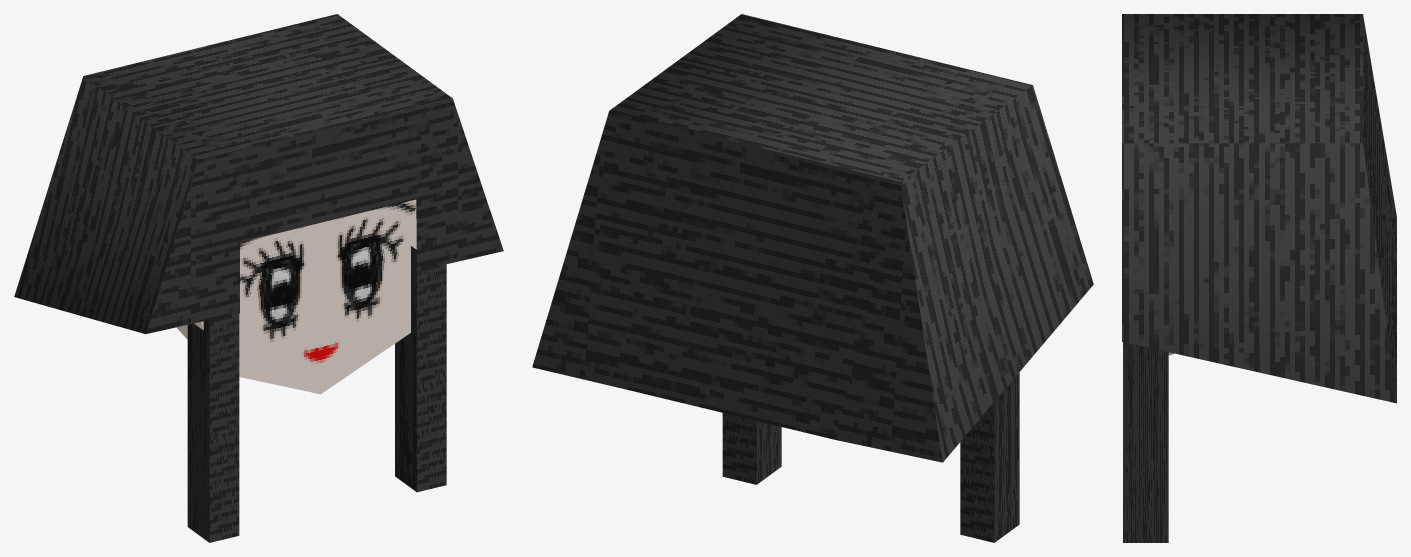
The model's file is C_GH_Head_F2.FBX.
3 renders of one model, left to right at view 1: azimuth 30°, elevation 25°; view 2: azimuth 150°, elevation 25°; view 3: azimuth 270°, elevation 25°, orthographic. The views are drawn at different scales.
Parts seen in each view (by area): view 1: Hair, Face; view 2: Hair; view 3: Hair.
Part boxes in pixels (x1,y1,x2,y2): Hair: [14, 14, 503, 542]; Face: [176, 199, 416, 394]; Hair: [532, 14, 1093, 542]; Hair: [1122, 14, 1396, 542].
Size of the model in its own units: 34.23 by 35.22 by 21.79.
2 materials, 2 textured.
